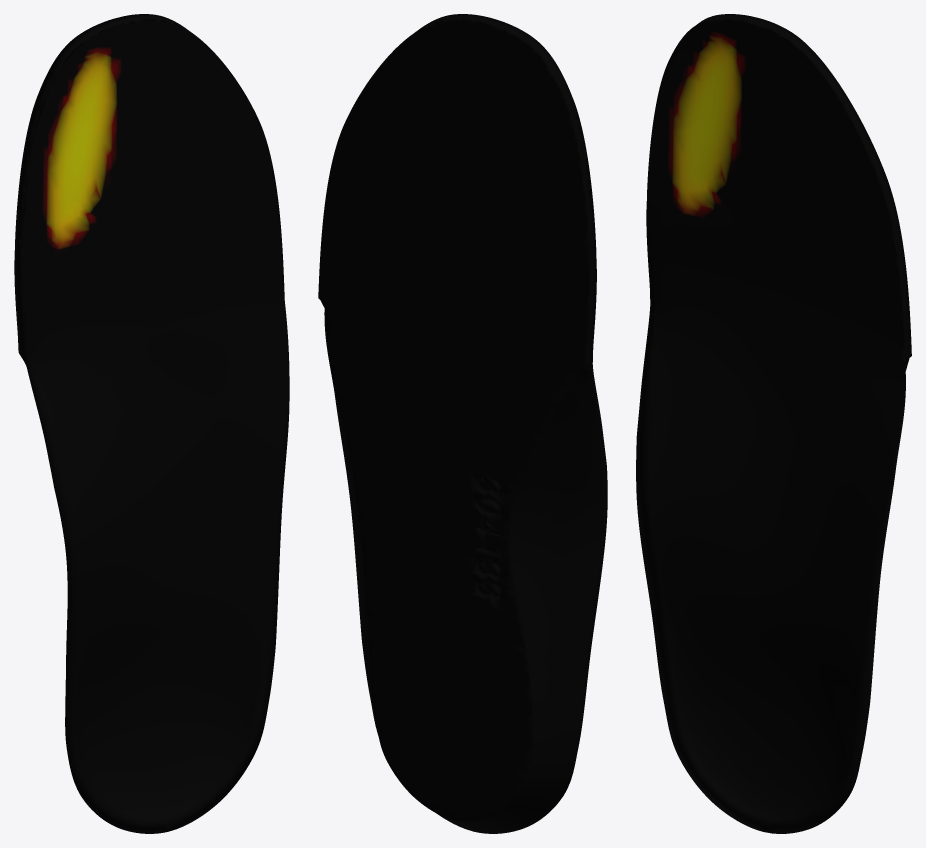
The model's file is PAIR-DRILL-FILL-1ST_RIGHT.glb.
3 views of the same model, side by side, from view 1: azimuth 30°, elevation 25°; view 2: azimuth 150°, elevation 25°; view 3: azimuth 330°, elevation 25° (orthographic). The views are drawn at different scales.
Visible parts, largest first — view 1: world; view 2: world; view 3: world.
Part boxes in pixels (x1=…): world: x1=14, y1=14, x2=289, y2=833; world: x1=318, y1=14, x2=607, y2=833; world: x1=636, y1=14, x2=911, y2=833.
Size of the model in its own units: 109 by 317 by 24.17.
